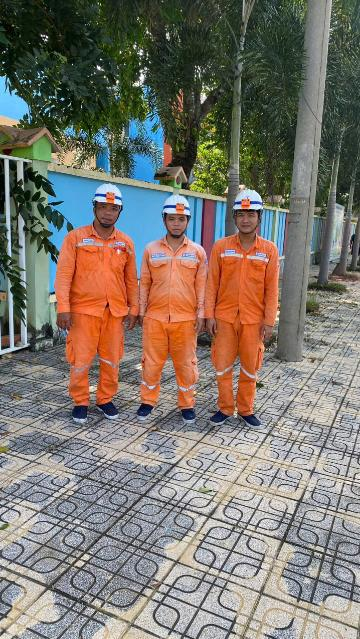helmet: (88, 181, 132, 217), (160, 186, 198, 222), (228, 184, 267, 212)
shoes: (199, 398, 232, 431), (64, 401, 98, 426), (94, 397, 125, 423), (232, 405, 262, 431), (175, 398, 197, 424), (130, 398, 154, 421)
